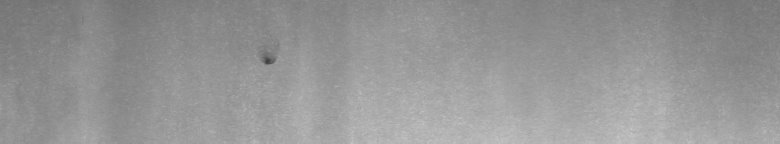fi: (260, 44, 280, 72)
